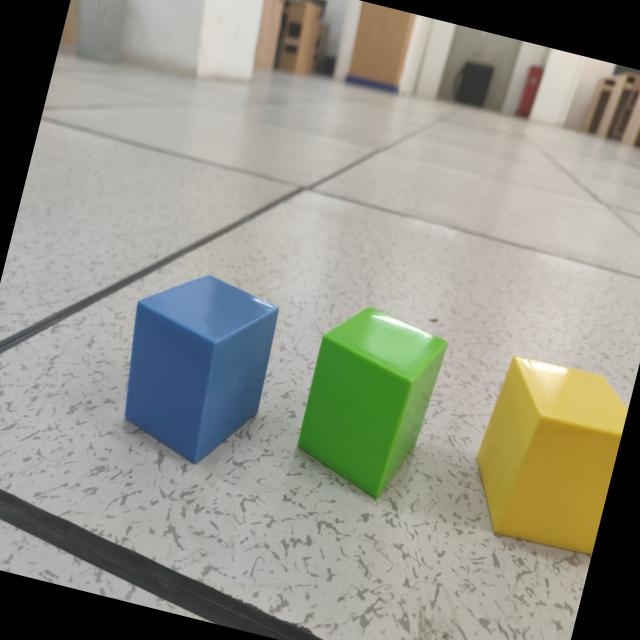blue: (123, 275, 278, 465)
green: (297, 308, 447, 499)
yellow: (477, 356, 628, 557)
